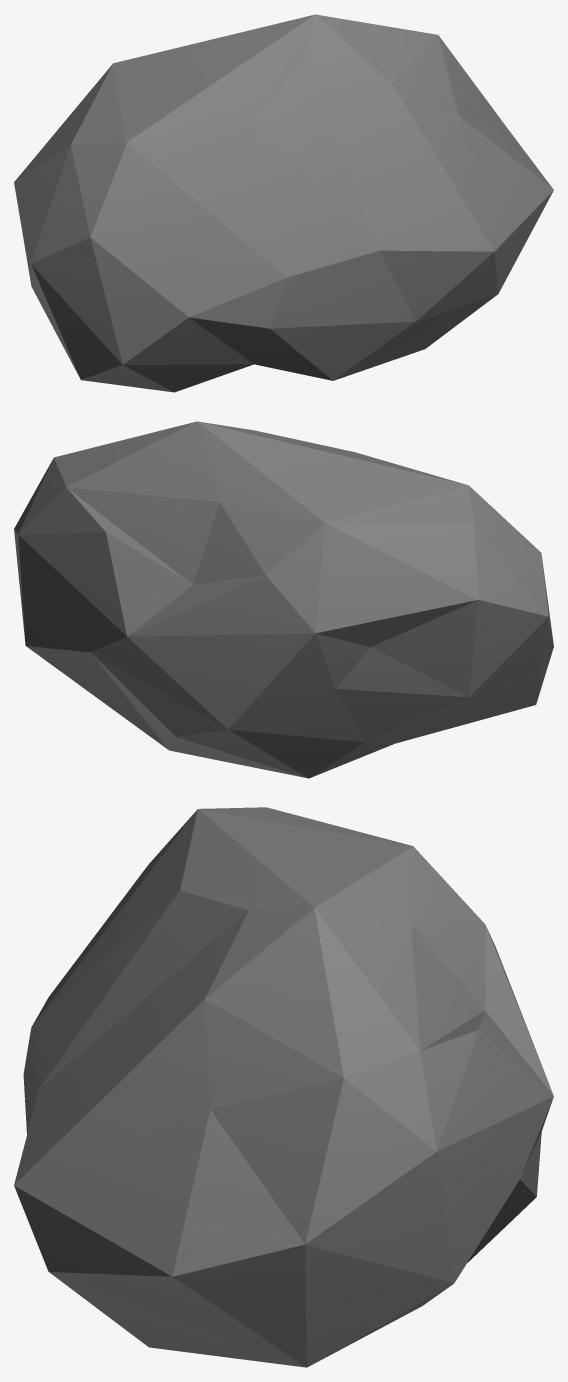
The model's file is Rock_Big_2.fbx.
3 views of the same model, one above another, from view 1: azimuth 30°, elevation 25°; view 2: azimuth 150°, elevation 25°; view 3: azimuth 270°, elevation 25° (orthographic). The views are drawn at different scales.
Visible parts, largest first — view 1: Rock_Big_2; view 2: Rock_Big_2; view 3: Rock_Big_2.
Boxes of the visible parts, bbox=[...] form: Rock_Big_2: bbox=[14, 14, 553, 392]; Rock_Big_2: bbox=[14, 421, 553, 778]; Rock_Big_2: bbox=[14, 807, 553, 1367].
Bounding box in the file's own units: 436 × 257 × 297.
